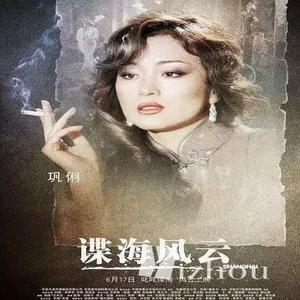cigarette: (19, 107, 43, 120)
smoke: (12, 82, 32, 102)
